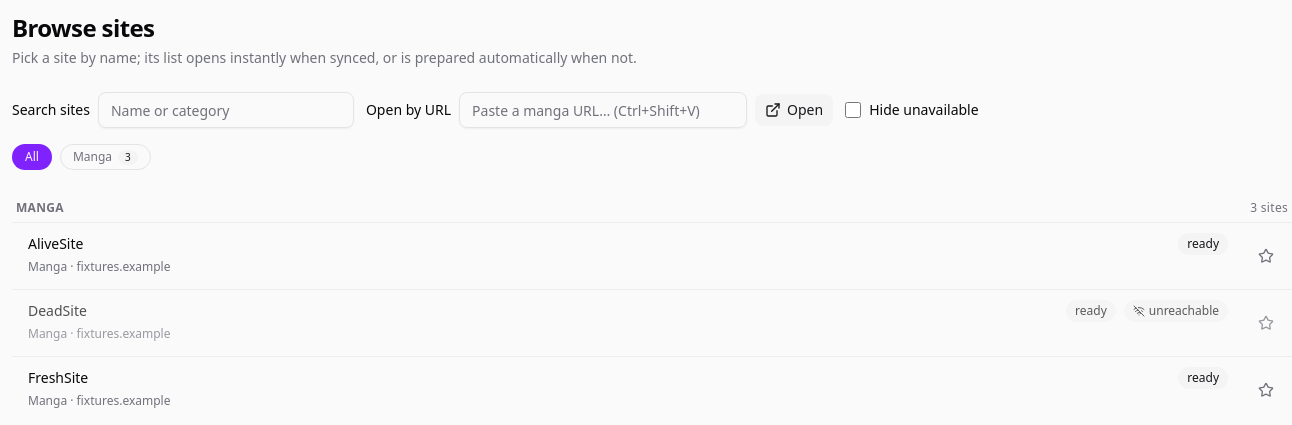
SitePickerPage: Hide unavailable (client-local view state) › the toggle is plain UI state: unreachable hides, unknown + reachable stay; never in the URL
Expected: the text "DeadSite" is shown, [28,301,87,320]
Expected: the text "FreshSite" is shown, [28,368,88,387]
What coordinates should you click on to do the following:
click the checkbox with test id "hide-unavailable-toggle"
I would click on:
 (853, 110)
Its box is [845,102,861,118].
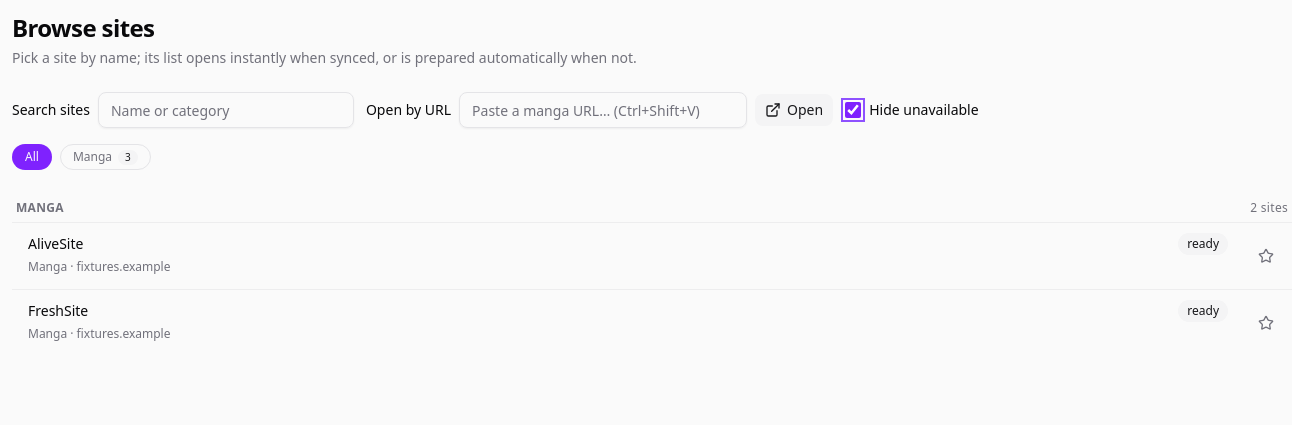
Expected: the text "AliveSite" is shown, [28,234,83,253]
Expected: the button "DeadSite" is gone
and back: unchecking restores the dimmed row.
What coordinates should you click on to do the following:
click the checkbox with test id "hide-unavailable-toggle"
I would click on:
 (853, 110)
Its box is [845,102,861,118].
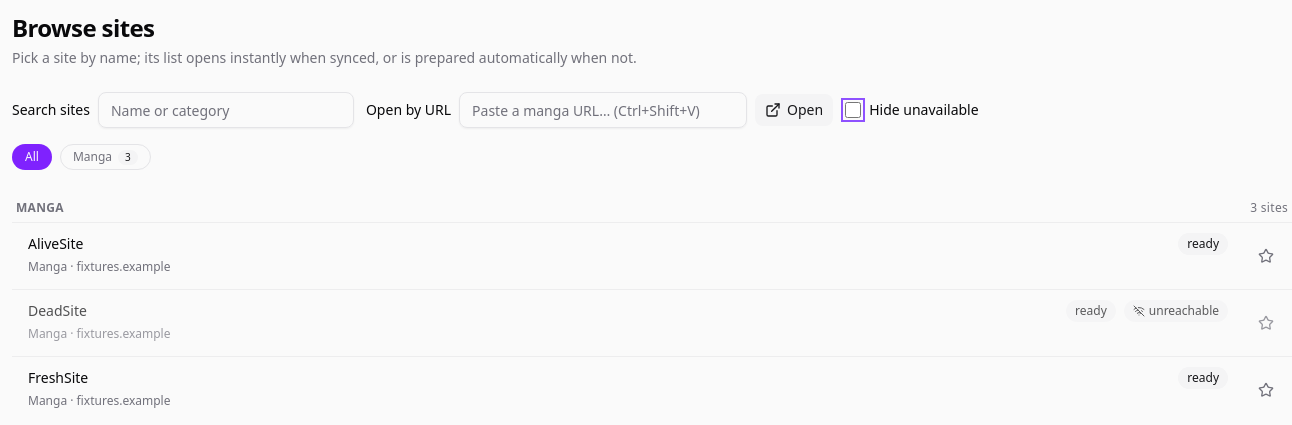
Expected: the text "DeadSite" is shown, [28,301,87,320]
